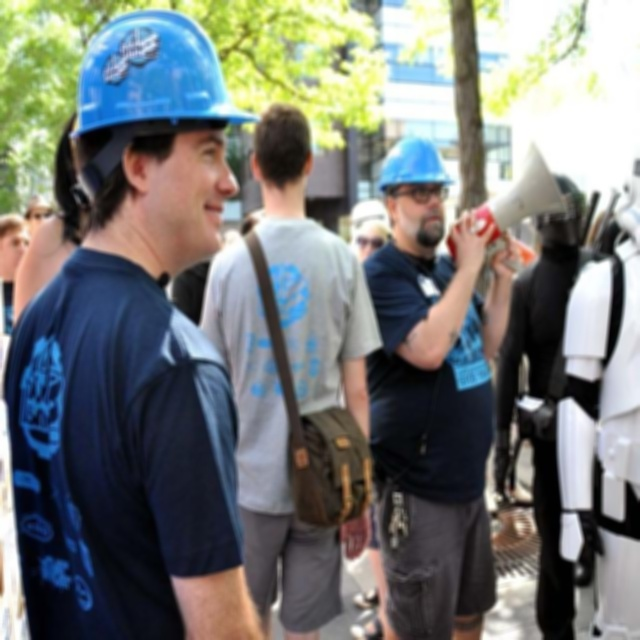Con_Casco: (69, 12, 252, 258), (378, 137, 451, 250)
Sin_Casco_Mascarrilla: (252, 102, 312, 208)
Sin_Chaleco: (11, 261, 236, 640)
